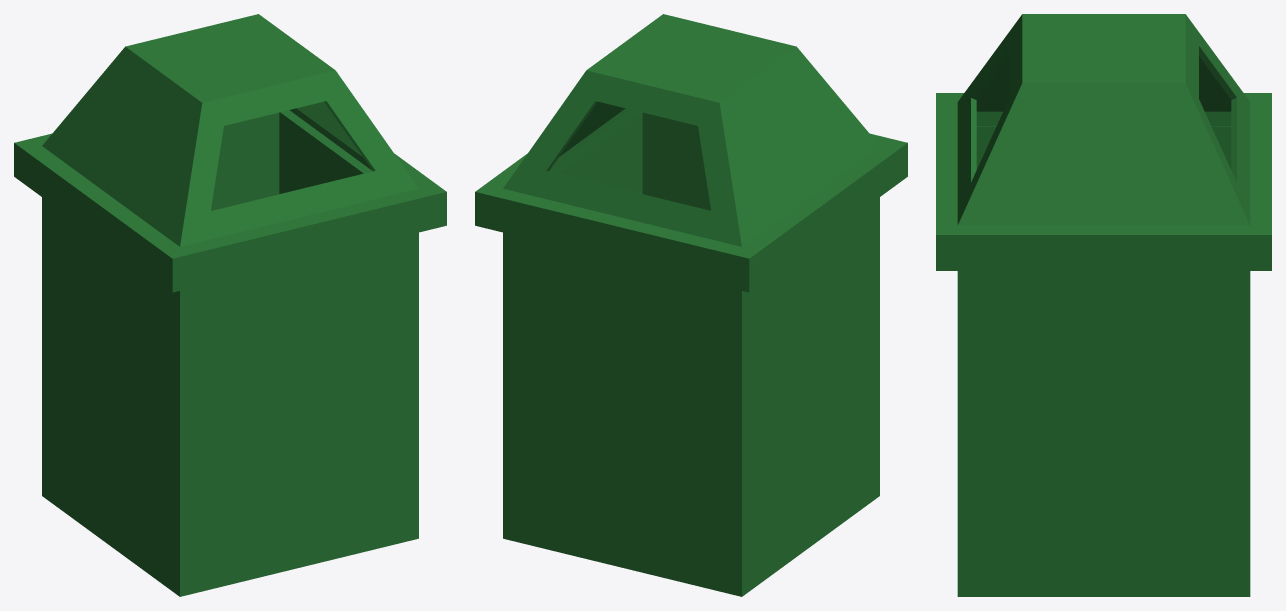
The model's file is P_Trashcan_03.dae.
3 views of the same model, side by side, from view 1: azimuth 30°, elevation 25°; view 2: azimuth 150°, elevation 25°; view 3: azimuth 270°, elevation 25° (orthographic). The views are drawn at different scales.
Visible parts, largest first — view 1: Trash_Can_03; view 2: Trash_Can_03; view 3: Trash_Can_03.
Boxes of the visible parts, bbox=[...] form: Trash_Can_03: bbox=[14, 14, 446, 596]; Trash_Can_03: bbox=[475, 14, 907, 596]; Trash_Can_03: bbox=[936, 14, 1271, 596].
Size of the model in its own units: 0.7202 by 0.7202 by 1.15.
